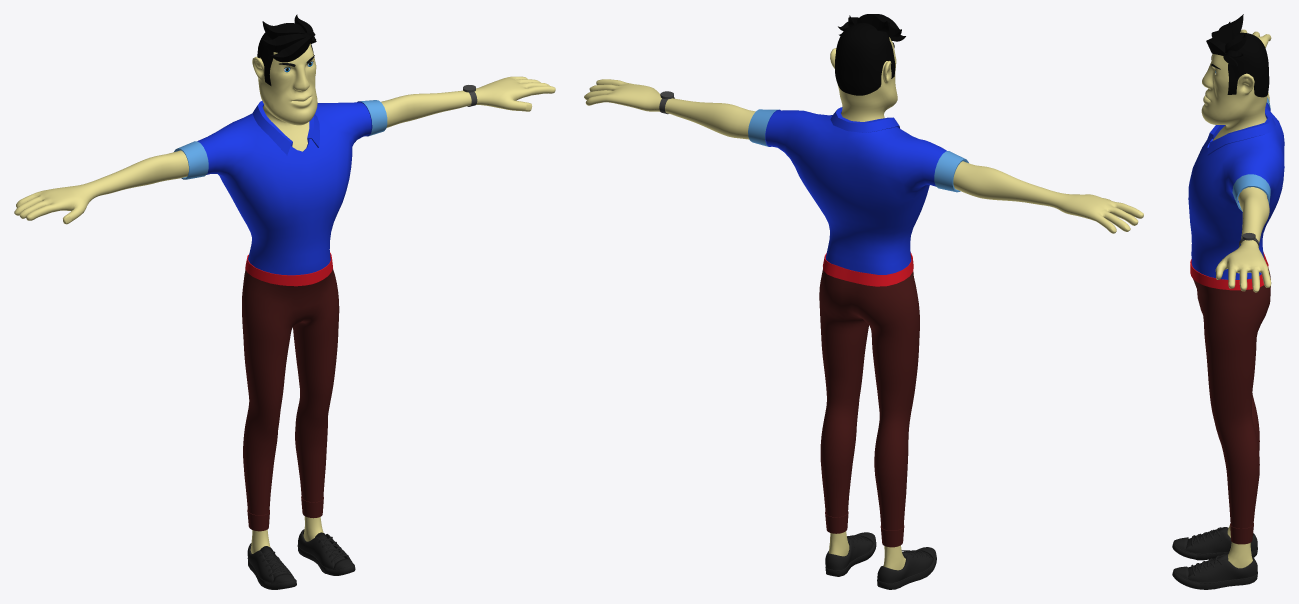
The model's file is man_1.gltf.
3 renders of one model, left to right at view 1: azimuth 30°, elevation 25°; view 2: azimuth 150°, elevation 25°; view 3: azimuth 270°, elevation 25°, orthographic. The views are drawn at different scales.
Parts seen in each view (by area): view 1: D_1.001, D_2.001, Body.002, Shoes.002, Hair.002; view 2: D_2.001, D_1.001, Body.002, Hair.002, Shoes.002; view 3: D_2.001, D_1.001, Body.002, Shoes.002, Hair.002.
Boxes of the visible parts, x1,y1,x2,y2 form: D_1.001: [174, 100, 387, 275]; D_2.001: [242, 252, 339, 531]; Body.002: [14, 43, 555, 553]; Shoes.002: [247, 529, 355, 589]; Hair.002: [257, 14, 316, 85]; D_2.001: [819, 252, 919, 547]; D_1.001: [748, 107, 968, 274]; Body.002: [584, 37, 1143, 570]; Hair.002: [835, 14, 905, 95]; Shoes.002: [825, 532, 936, 589]; D_2.001: [1190, 252, 1270, 544]; D_1.001: [1188, 97, 1284, 279]; Body.002: [1201, 29, 1271, 568]; Shoes.002: [1172, 527, 1257, 589]; Hair.002: [1206, 14, 1269, 97].
Bounding box in the file's own units: 7.97 × 7.85 × 1.47.
Materials: 10 (2 with a texture image).
